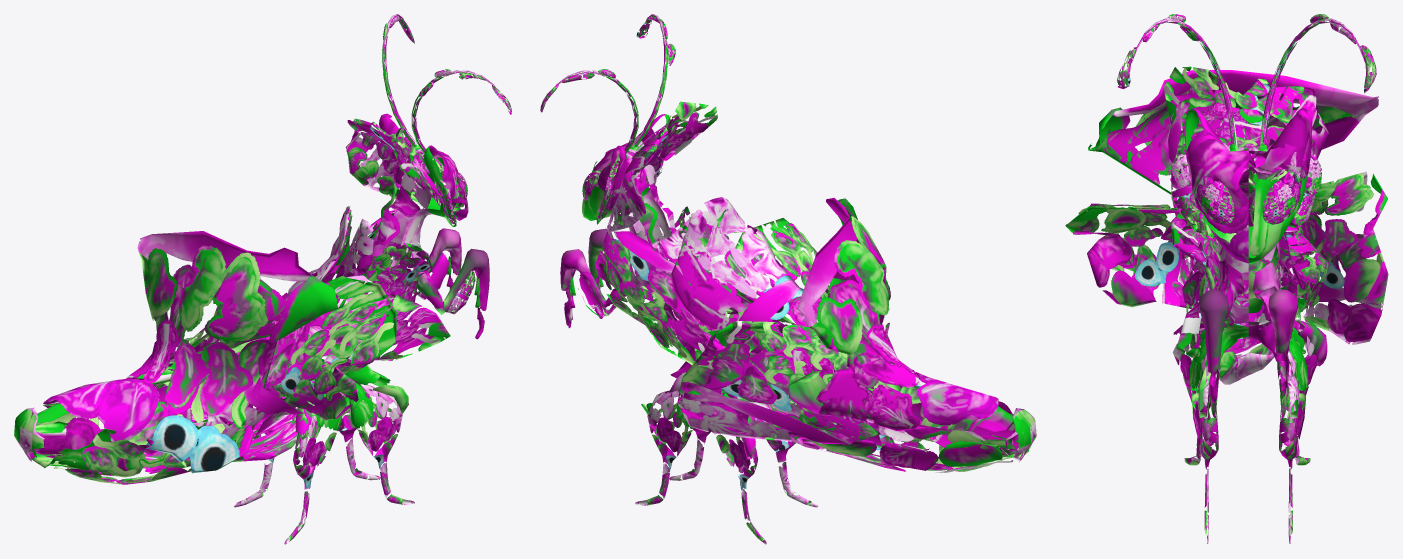
The model's file is Landmarks_OrchidMantis_RedDragonCabbage_Park_Var.01.fbx.
3 views of the same model, side by side, from view 1: azimuth 30°, elevation 25°; view 2: azimuth 150°, elevation 25°; view 3: azimuth 270°, elevation 25° (orthographic). The views are drawn at different scales.
Visible parts, largest first — view 1: Low.Petal.001, Body.006, Low.Petal.005, Low.Petal.004, Low.Petal.009, Low.Petal.006, Low.Petal.017, Low.Petal.008, Low.Petal.019, Low.Petal.002, Low.Petal.007, Antenea.005 (+1 smaller); view 2: Low.Petal.001, Low.Petal.077, Body.006, Low.Petal.002, Low.Petal.007, Low.Petal.004, Low.Petal.009, Low.Petal.016, Low.Petal.005, Low.Petal.018, Antenea.005, Low.Petal.019; view 3: Body.006, Low.Petal.077, Low.Petal.001, Low.Petal.005, Low.Petal.009, Low.Petal.011, Low.Petal.007, Low.Petal.016, Low.Petal.017, Antenea.005, Low.Petal.004, Pupils.005 (+10 smaller).
Part boxes in pixels (x1,y1,x2,y2): Low.Petal.001: (37, 231, 347, 473); Body.006: (14, 113, 489, 461); Low.Petal.005: (192, 276, 396, 441); Low.Petal.004: (27, 380, 349, 484); Low.Petal.009: (345, 118, 425, 199); Low.Petal.006: (274, 275, 450, 398); Low.Petal.017: (349, 381, 414, 505); Low.Petal.008: (364, 242, 432, 320); Low.Petal.019: (284, 393, 342, 544); Low.Petal.002: (136, 206, 352, 385); Low.Petal.007: (335, 210, 400, 278); Antenea.005: (382, 14, 500, 153); Low.Petal.001: (788, 197, 1014, 431); Low.Petal.077: (677, 321, 880, 444); Body.006: (560, 114, 1036, 461); Low.Petal.002: (670, 197, 914, 373); Low.Petal.007: (595, 218, 724, 369); Low.Petal.004: (721, 390, 1031, 472); Low.Petal.009: (607, 101, 717, 232); Low.Petal.016: (635, 390, 699, 505); Low.Petal.005: (735, 218, 884, 435); Low.Petal.018: (710, 392, 766, 544); Antenea.005: (556, 14, 667, 153); Low.Petal.019: (766, 393, 817, 507); Body.006: (1173, 107, 1327, 417); Low.Petal.077: (1256, 171, 1388, 344); Low.Petal.001: (1088, 70, 1378, 271); Low.Petal.005: (1065, 203, 1210, 312); Low.Petal.009: (1163, 66, 1328, 222); Low.Petal.011: (1167, 97, 1268, 173); Low.Petal.007: (1229, 178, 1330, 320); Low.Petal.016: (1277, 338, 1307, 543); Low.Petal.017: (1189, 338, 1220, 543); Antenea.005: (1132, 18, 1364, 146); Low.Petal.004: (1191, 262, 1295, 384); Pupils.005: (1201, 181, 1296, 223).
Bounding box in the file's own units: 523 × 484 × 261.
